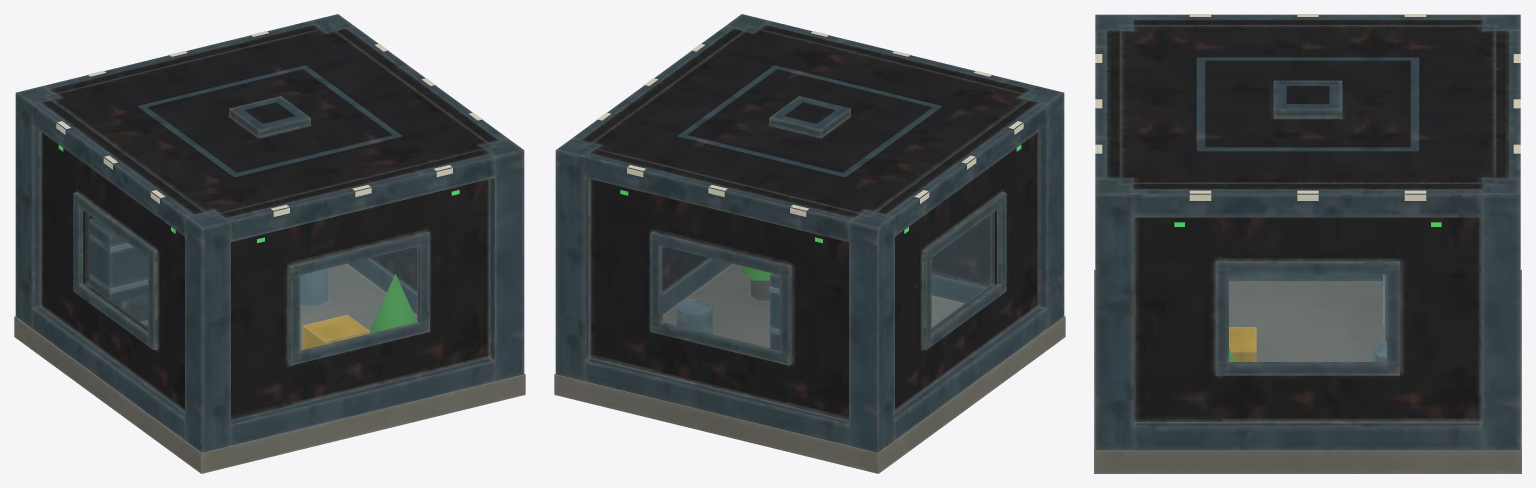
The model's file is hull_airtight_closed.glb.
The picture shows the model from 3 angles, left to right: view 1: azimuth 30°, elevation 25°; view 2: azimuth 150°, elevation 25°; view 3: azimuth 270°, elevation 25°; orthographic projection. The views are drawn at different scales.
Parts seen in each view (by area): view 1: te_hull_airtight_closed; view 2: te_hull_airtight_closed; view 3: te_hull_airtight_closed.
Boxes of the visible parts, x1,y1,x2,y2 form: te_hull_airtight_closed: (14,14,525,473); te_hull_airtight_closed: (554,14,1065,473); te_hull_airtight_closed: (1094,14,1521,473).
Size of the model in its own units: 1 by 0.7446 by 1.
Materials: 2 (1 with a texture image).
